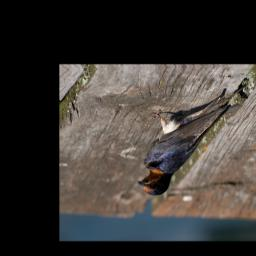Swallow: (135, 82, 251, 197)
